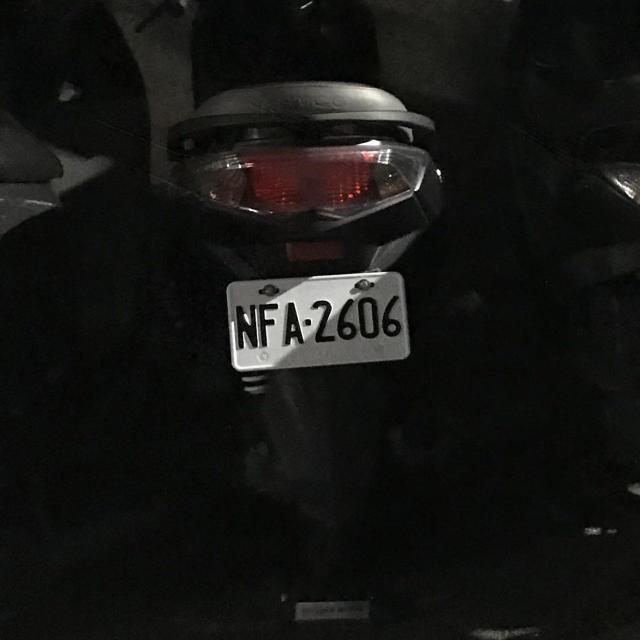W: (220, 261, 415, 382)
